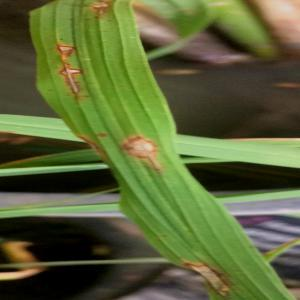1 RiceBlast: (119, 118, 170, 180), (65, 124, 129, 172), (175, 249, 233, 300), (40, 33, 96, 71), (54, 59, 96, 97), (85, 1, 120, 19)
